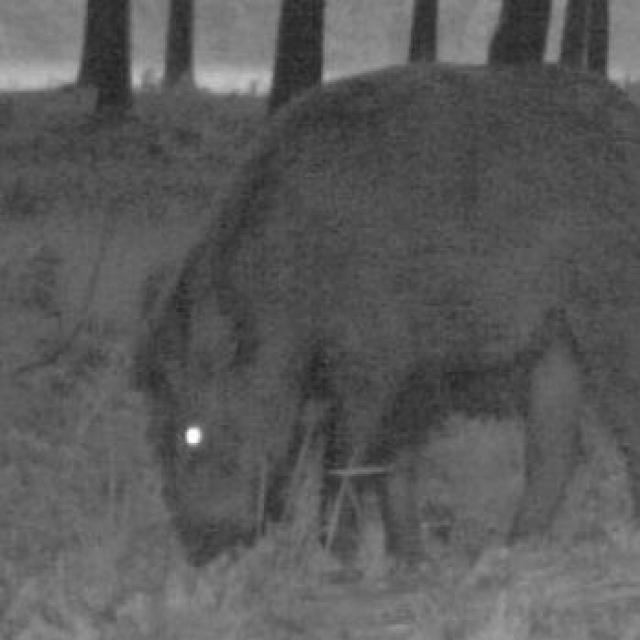pig: (99, 47, 640, 634)
